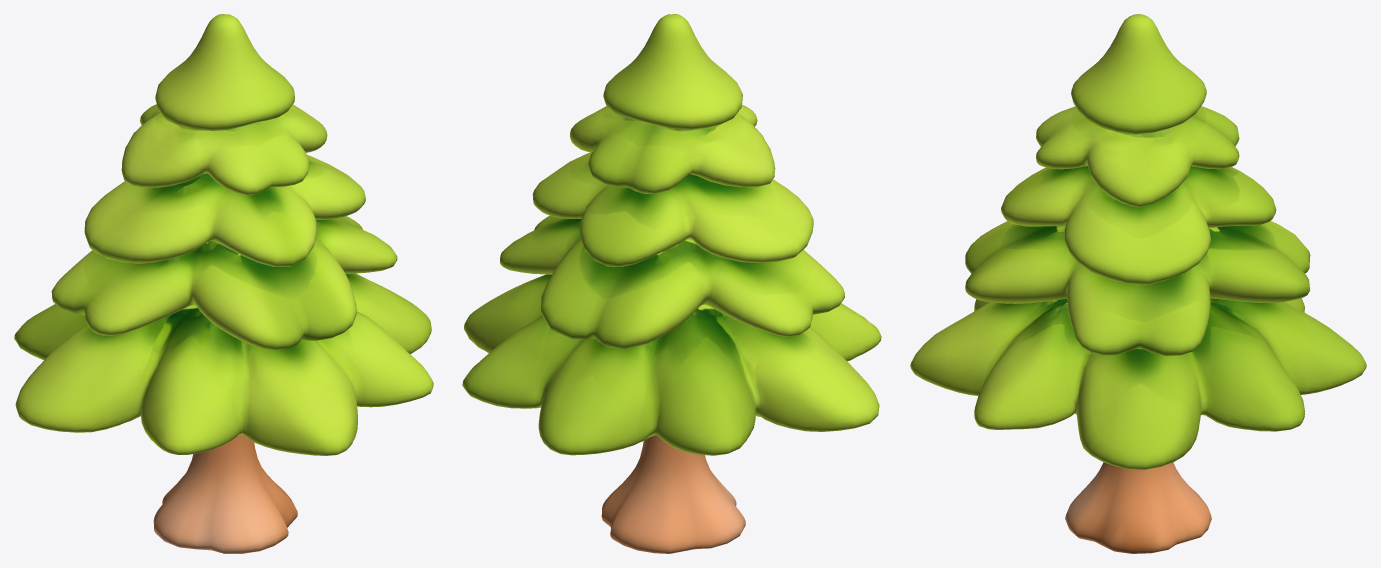
Rendered from tree.glb.
The picture shows the model from 3 angles, left to right: view 1: azimuth 30°, elevation 25°; view 2: azimuth 150°, elevation 25°; view 3: azimuth 270°, elevation 25°; orthographic projection.
Parts seen in each view (by area): view 1: Object_2; view 2: Object_2; view 3: Object_2.
Part boxes in pixels (x1,y1,x2,y2): Object_2: (14, 14, 433, 553); Object_2: (462, 14, 881, 553); Object_2: (910, 14, 1366, 553).
Bounding box in the file's own units: 1.64 × 2 × 1.61.
1 material, 1 textured.
